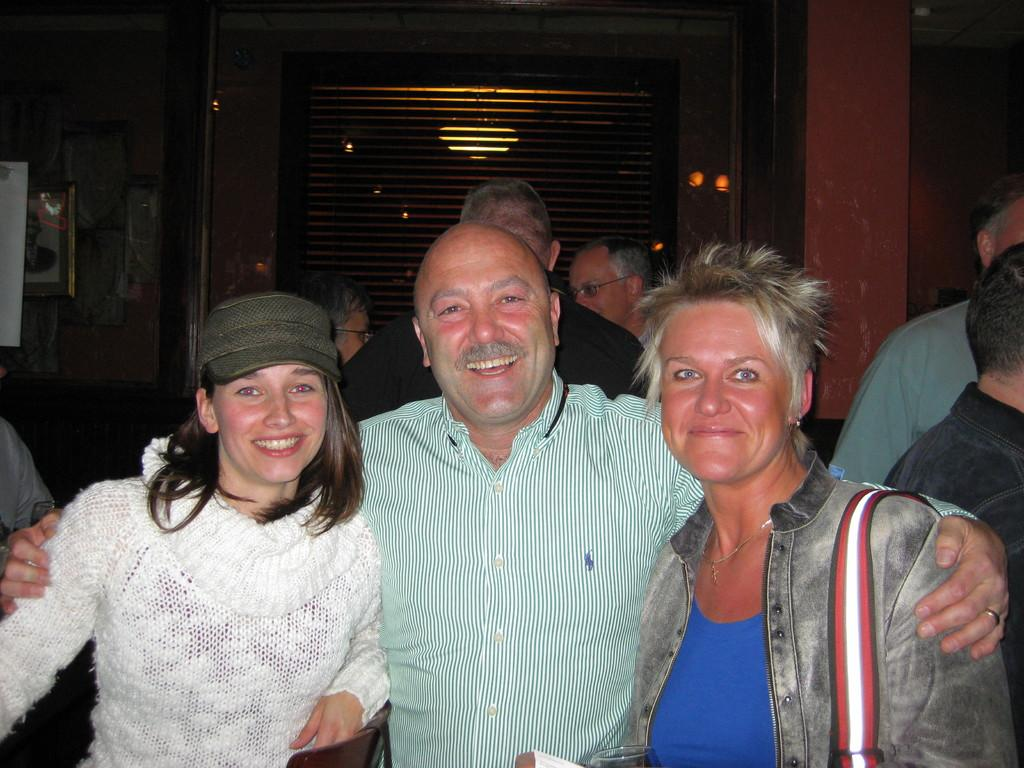Hat: (193, 291, 342, 385)
